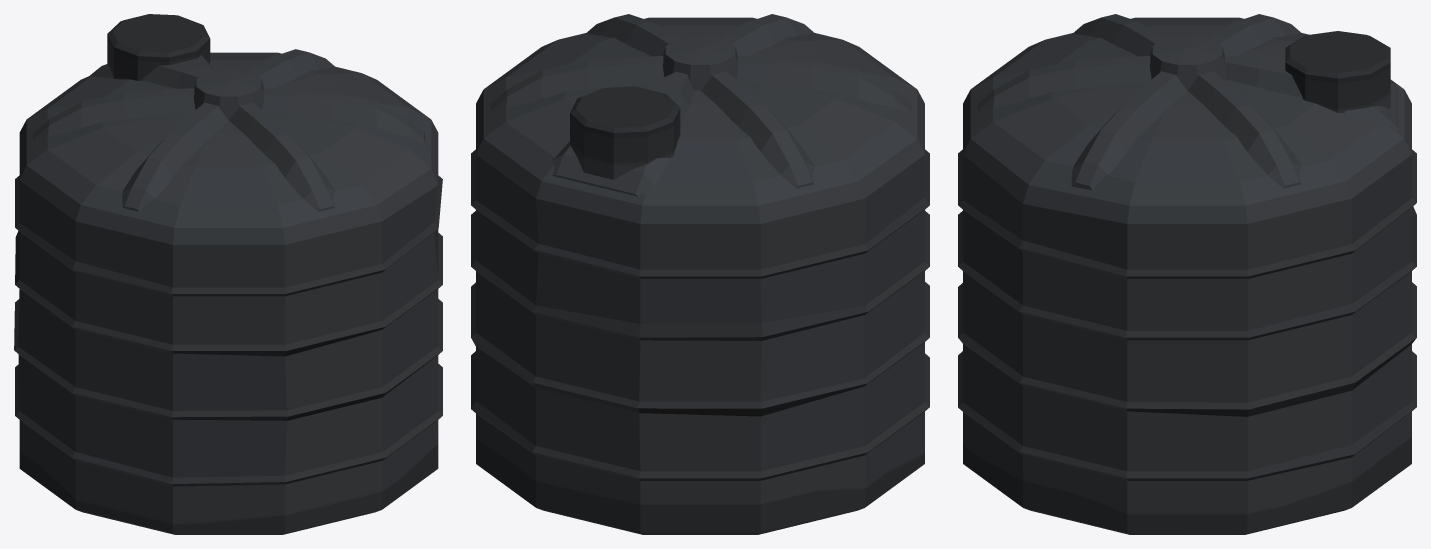
File: SM_Prop_WaterTank_05.fbx
3 views of the same model, side by side, from view 1: azimuth 30°, elevation 25°; view 2: azimuth 150°, elevation 25°; view 3: azimuth 270°, elevation 25° (orthographic). The views are drawn at different scales.
Parts seen in each view (by area): view 1: SM_Prop_WaterTank_05; view 2: SM_Prop_WaterTank_05; view 3: SM_Prop_WaterTank_05.
Part boxes in pixels (x1,y1,x2,y2): SM_Prop_WaterTank_05: (14,14,442,534); SM_Prop_WaterTank_05: (471,14,929,534); SM_Prop_WaterTank_05: (958,14,1416,534).
Size of the model in its own units: 276 by 263 by 276.
